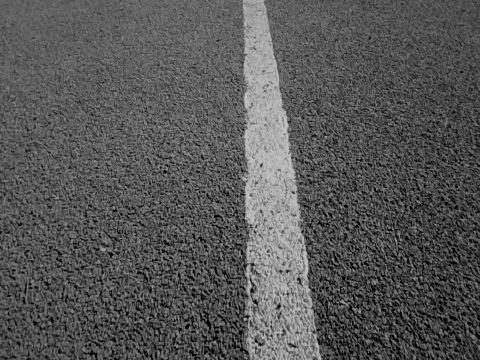Lines: (241, 0, 321, 360)
